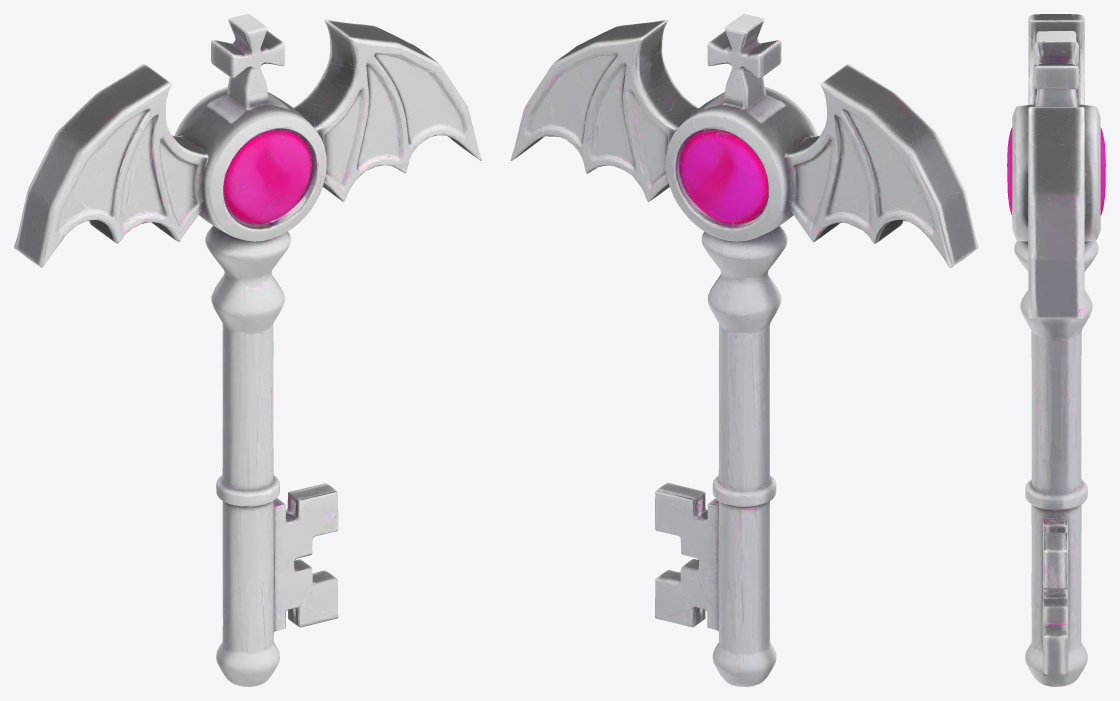
File: i-more.glb
3 views of the same model, side by side, from view 1: azimuth 30°, elevation 25°; view 2: azimuth 150°, elevation 25°; view 3: azimuth 270°, elevation 25° (orthographic). The views are drawn at different scales.
Parts seen in each view (by area): view 1: Mesh_0; view 2: Mesh_0; view 3: Mesh_0.
Part boxes in pixels (<box>): Mesh_0: <box>14,14,481,686</box>; Mesh_0: <box>510,14,978,686</box>; Mesh_0: <box>1007,14,1105,686</box>.
Bounding box in the file's own units: 1.33 × 1.9 × 0.2632.
1 material, 1 textured.
